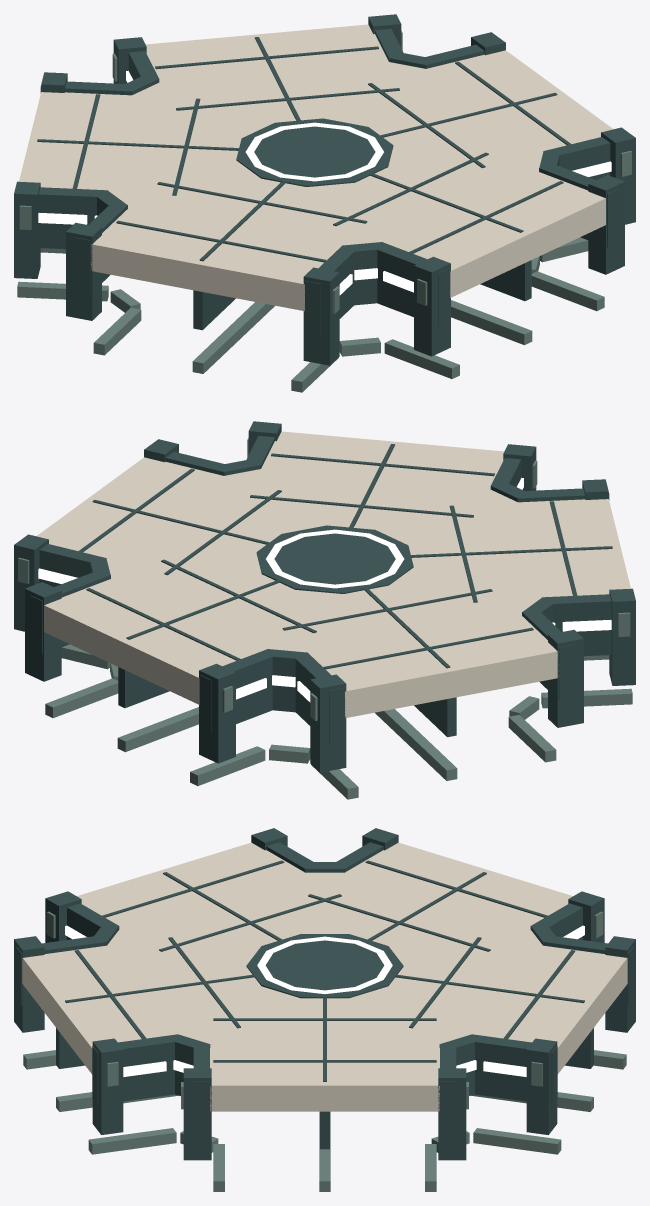
Rendered from Junction_Hub5_lab.glb.
The picture shows the model from 3 angles, top to bottom: view 1: azimuth 30°, elevation 25°; view 2: azimuth 150°, elevation 25°; view 3: azimuth 270°, elevation 25°; orthographic projection. The views are drawn at different scales.
Parts seen in each view (by area): view 1: Junction_Hub5; view 2: Junction_Hub5; view 3: Junction_Hub5.
Part boxes in pixels (x1,y1,x2,y2): Junction_Hub5: [14, 14, 635, 392]; Junction_Hub5: [14, 421, 635, 799]; Junction_Hub5: [14, 828, 635, 1191].
Size of the model in its own units: 7.17 by 1.58 by 7.52.
